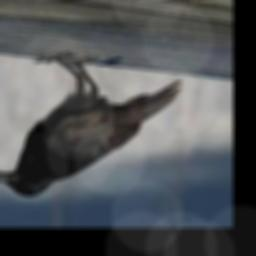Crow: (0, 52, 186, 197)
